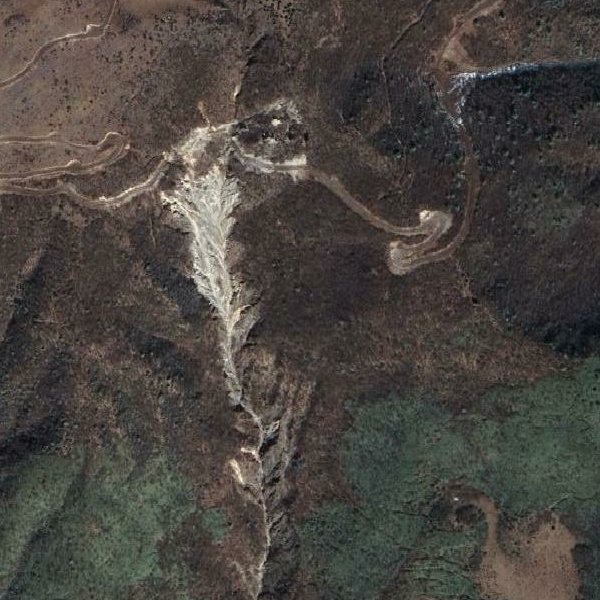slope: (156, 160, 256, 413)
